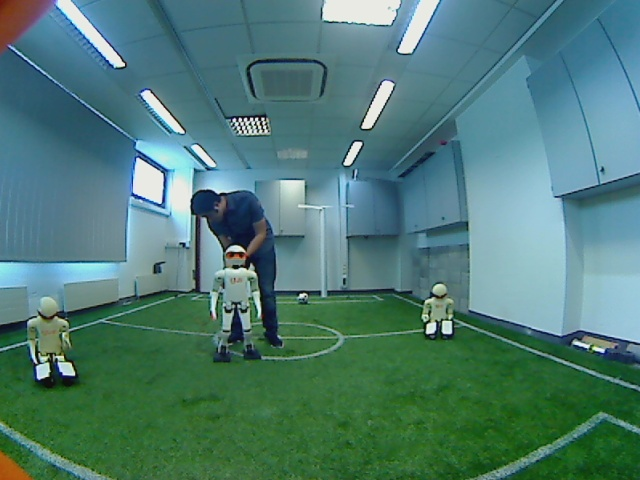ball: (293, 289, 315, 309)
robot: (204, 243, 267, 365), (19, 291, 88, 387), (413, 281, 461, 347)
